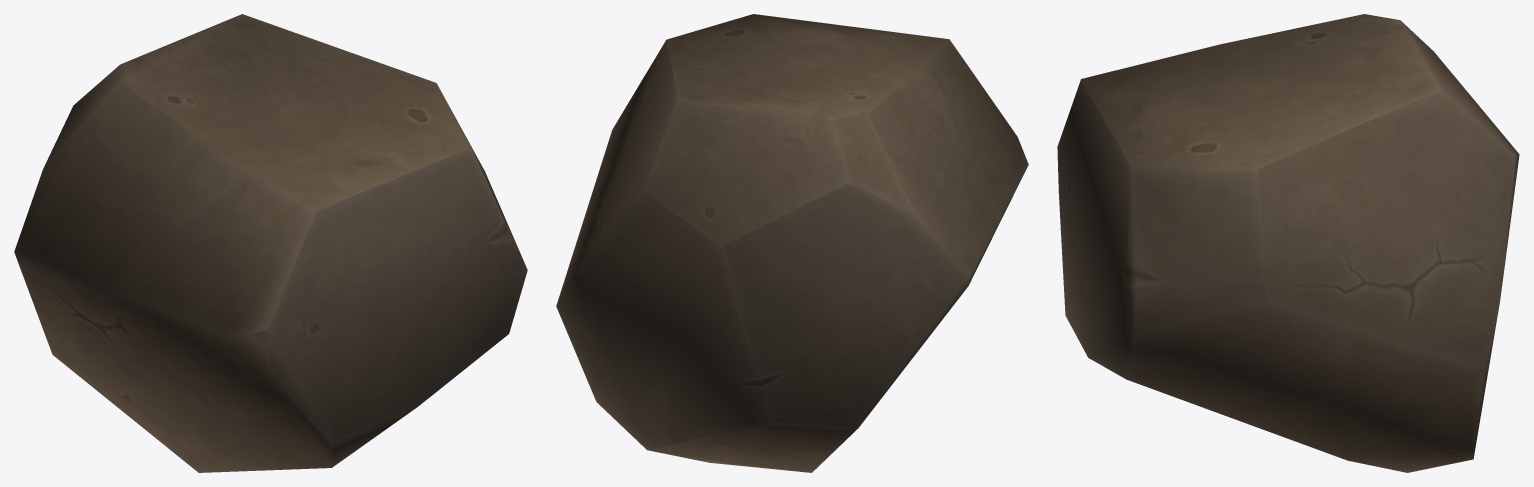
Rendered from ST_Stone2_v2.fbx.
The picture shows the model from 3 angles, left to right: view 1: azimuth 30°, elevation 25°; view 2: azimuth 150°, elevation 25°; view 3: azimuth 270°, elevation 25°; orthographic projection. The views are drawn at different scales.
Visible parts, largest first — view 1: ST_Stone2; view 2: ST_Stone2; view 3: ST_Stone2.
Part boxes in pixels (x1=…): ST_Stone2: x1=14, y1=14, x2=527, y2=472; ST_Stone2: x1=556, y1=14, x2=1028, y2=472; ST_Stone2: x1=1057, y1=14, x2=1519, y2=472.
Size of the model in its own units: 148 by 134 by 139.
